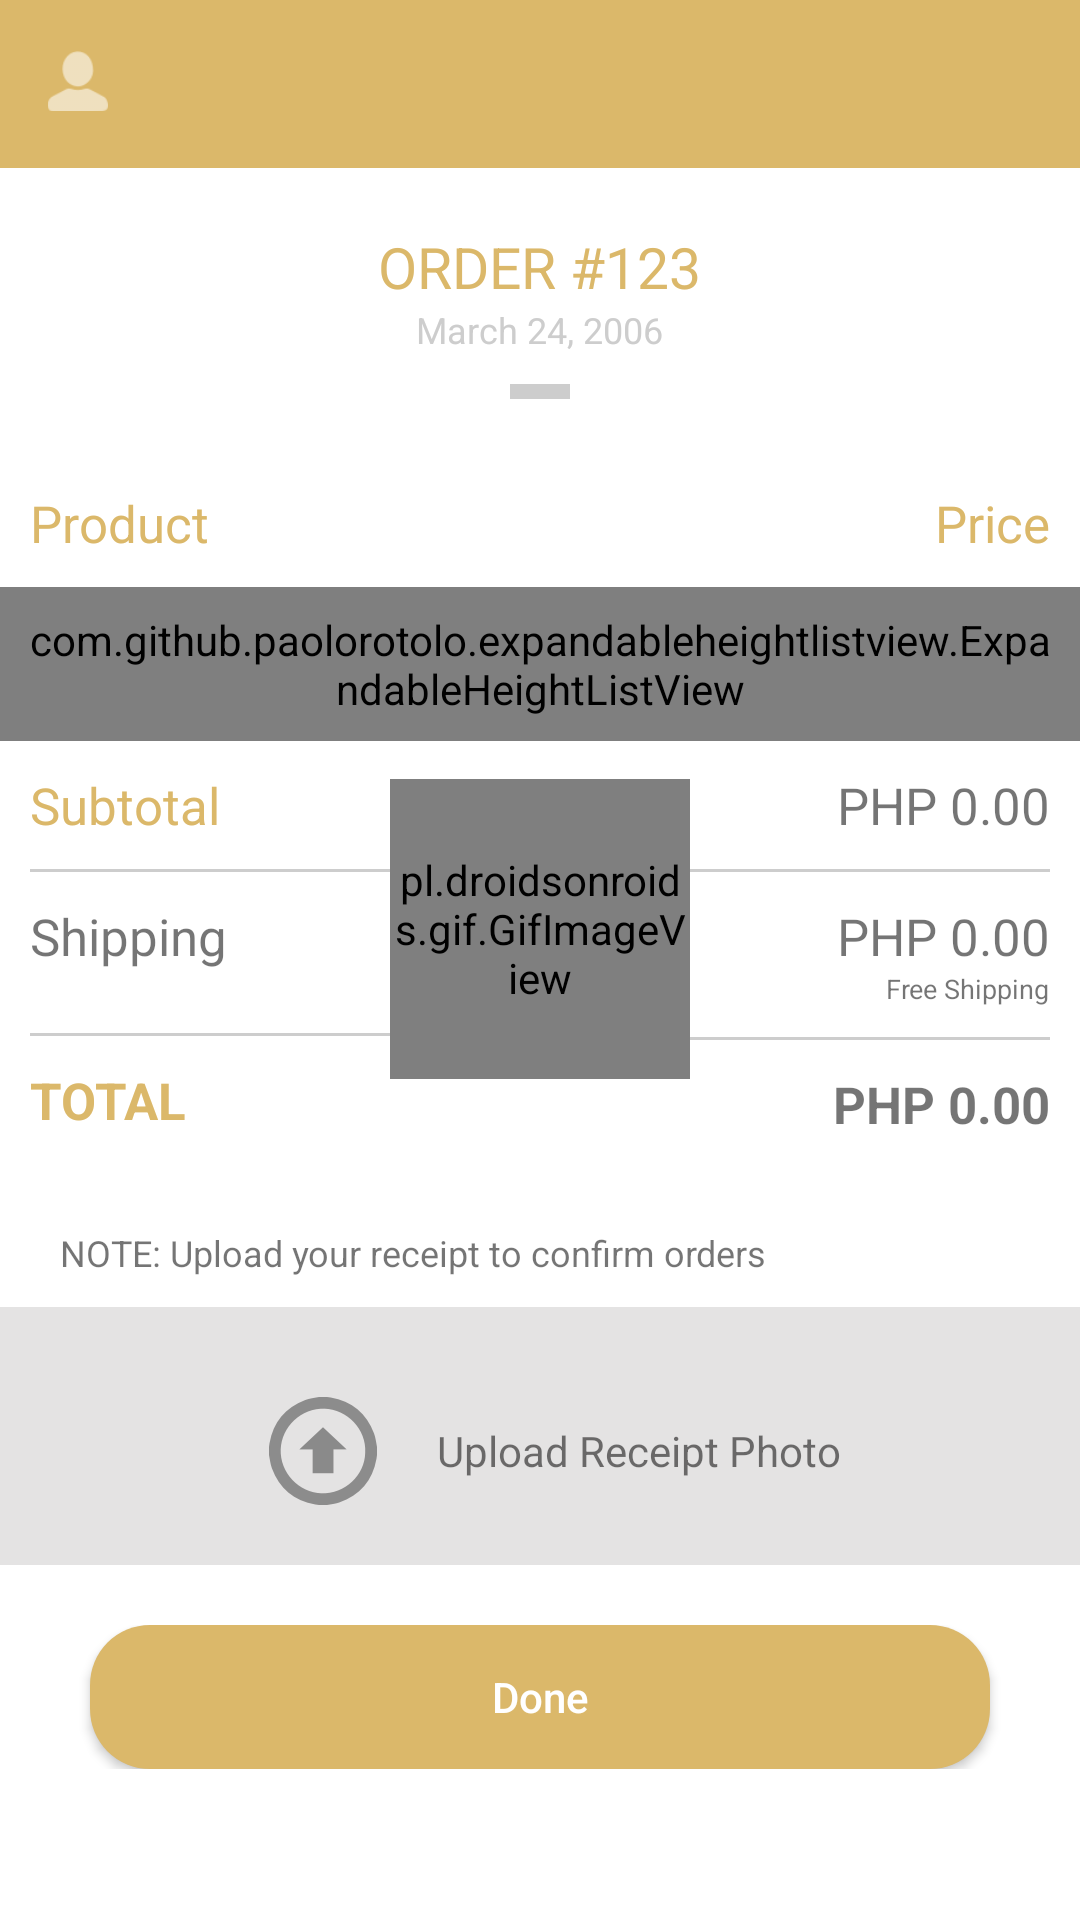

Locate icon controls on the screen. Image size 1080w x 1920h, boxes as [x1=x1, y1=y1, x2=x2, y2=y2].
profile: [x1=48, y1=51, x2=108, y2=111]
